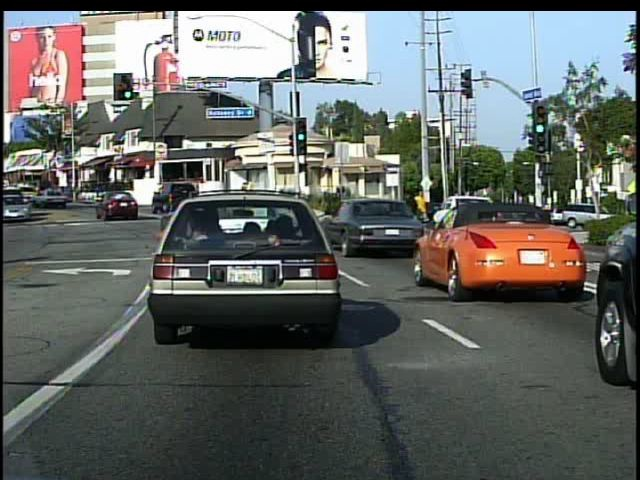person: (411, 188, 430, 228), (402, 191, 419, 230)
